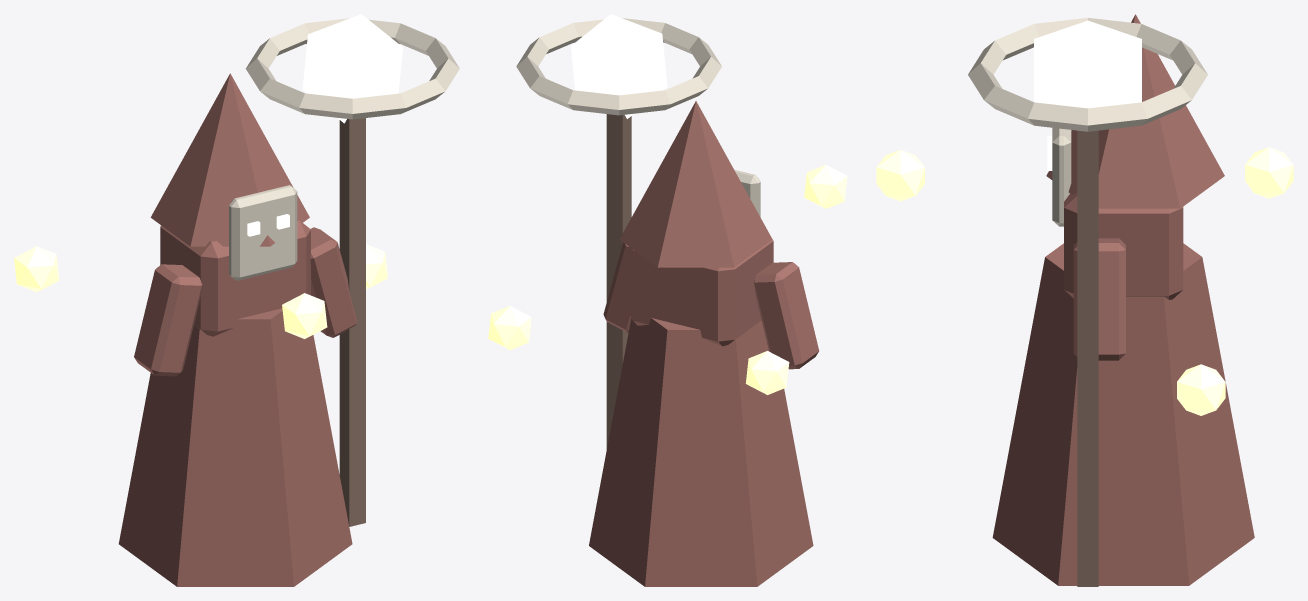
Rendered from EN_Ember_MagmaShaman.fbx.
The picture shows the model from 3 angles, left to right: view 1: azimuth 30°, elevation 25°; view 2: azimuth 150°, elevation 25°; view 3: azimuth 270°, elevation 25°; orthographic projection. The views are drawn at different scales.
Parts seen in each view (by area): view 1: EN_Ember_MagmaShaman; view 2: EN_Ember_MagmaShaman; view 3: EN_Ember_MagmaShaman.
Boxes of the visible parts, x1=… form: EN_Ember_MagmaShaman: x1=14, y1=14, x2=459, y2=586; EN_Ember_MagmaShaman: x1=488, y1=14, x2=847, y2=586; EN_Ember_MagmaShaman: x1=876, y1=14, x2=1293, y2=586.
Size of the model in its own units: 1.89 by 2.67 by 1.75.
